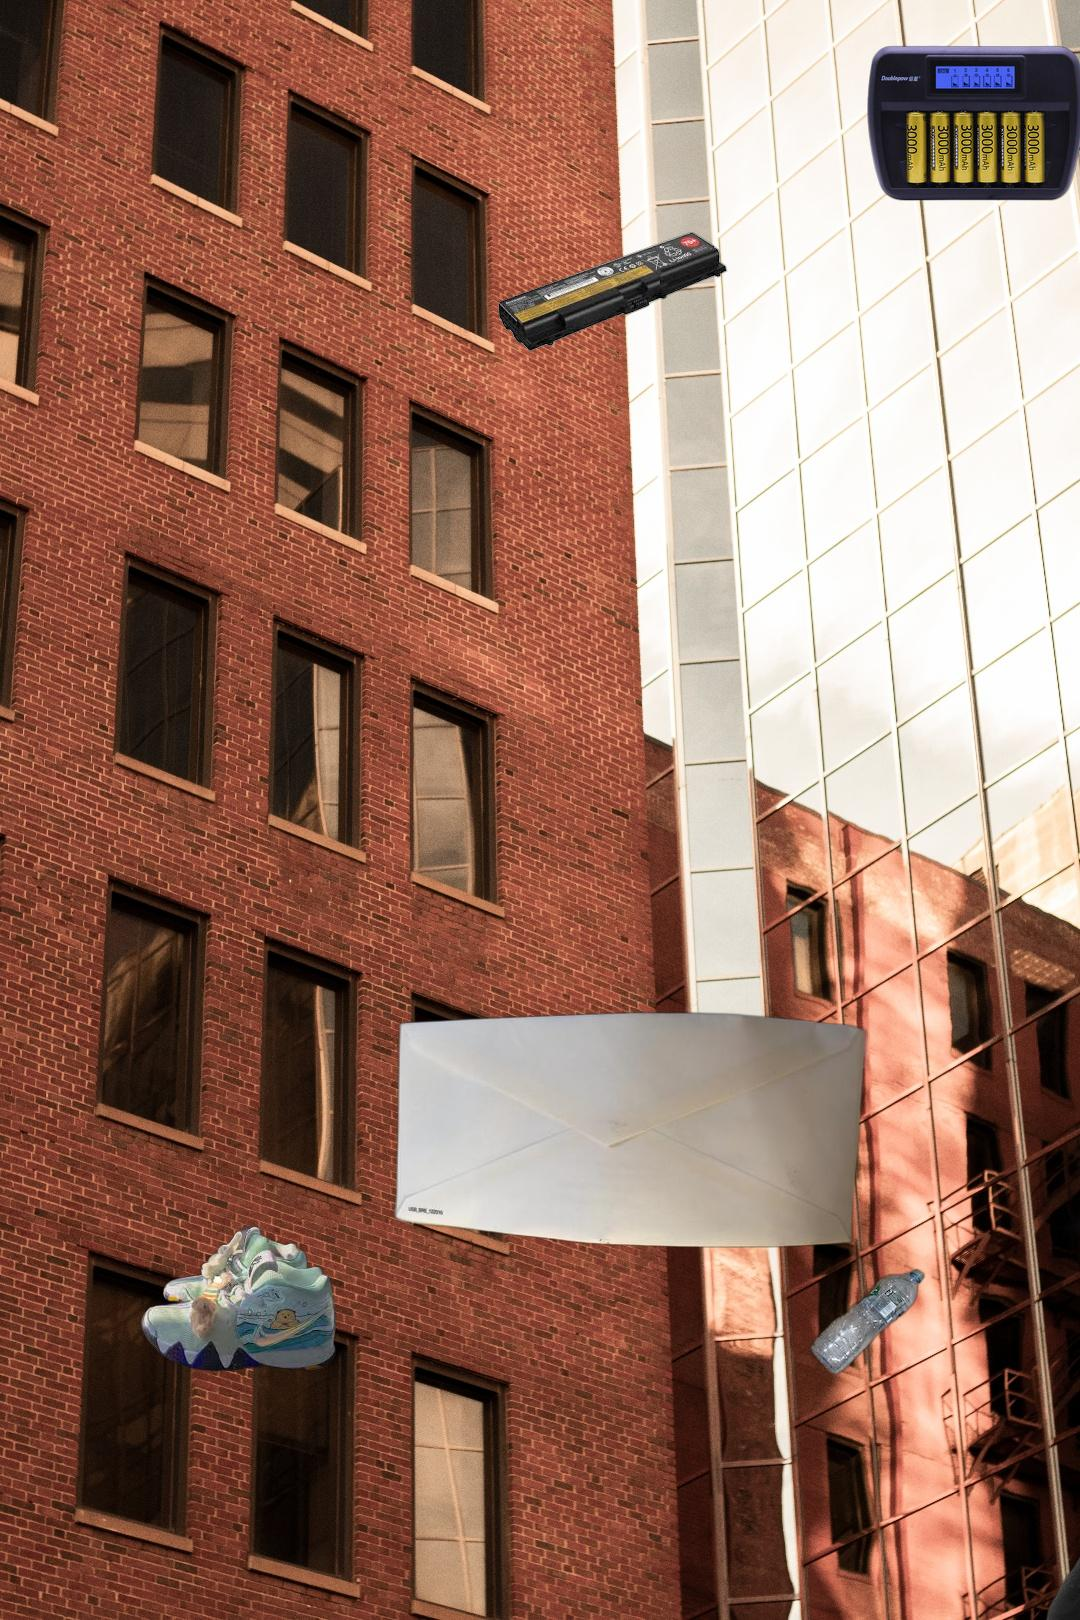battery: (865, 43, 1080, 202), (495, 229, 730, 354)
clothes: (1011, 1452, 1080, 1620)
paper: (389, 1009, 868, 1251)
penholder: (1038, 421, 1080, 1620)
plastic-bottles: (803, 1264, 928, 1378)
shoes: (137, 1223, 358, 1405)
